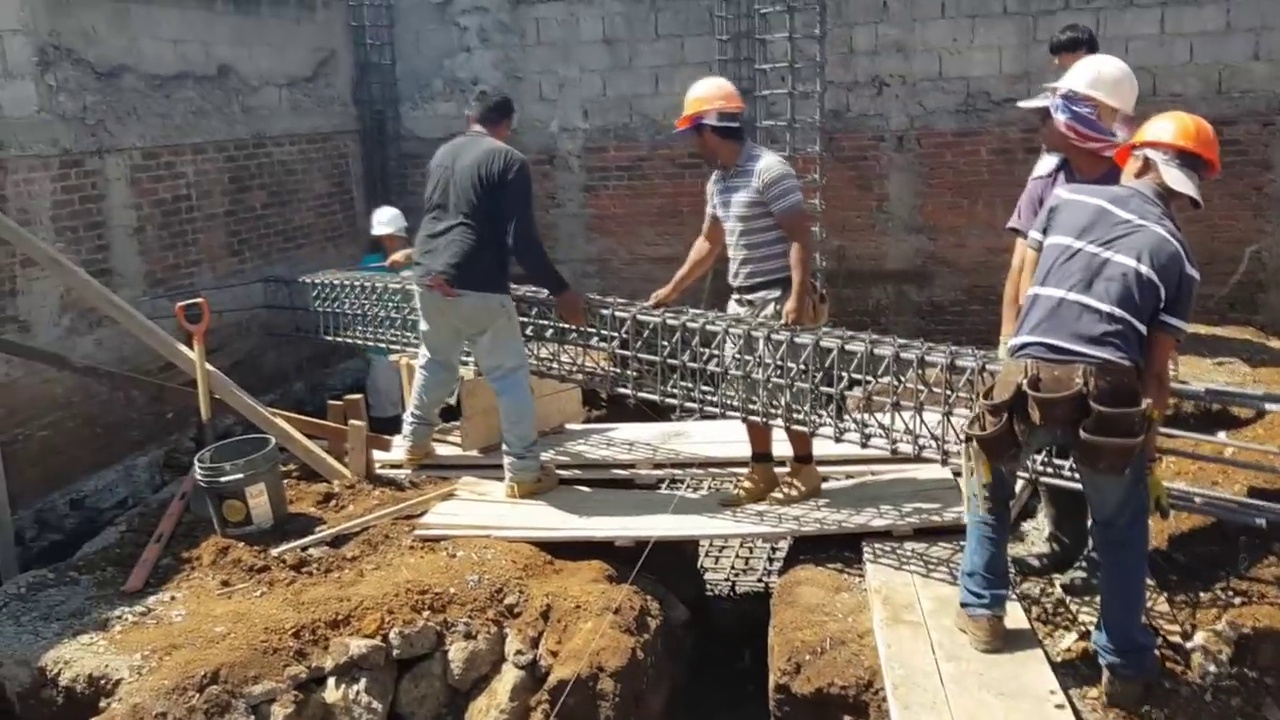helmet: (1126, 108, 1221, 179), (1051, 51, 1149, 117), (669, 78, 748, 134), (366, 206, 407, 239)
helmet-off: (467, 92, 518, 143), (1051, 22, 1099, 68)
helmet-on: (1040, 53, 1137, 166), (1114, 110, 1221, 206), (672, 78, 749, 171), (365, 205, 407, 259)
person: (964, 85, 1228, 690), (389, 85, 583, 512), (657, 75, 811, 508), (998, 58, 1146, 365), (354, 202, 425, 459)
